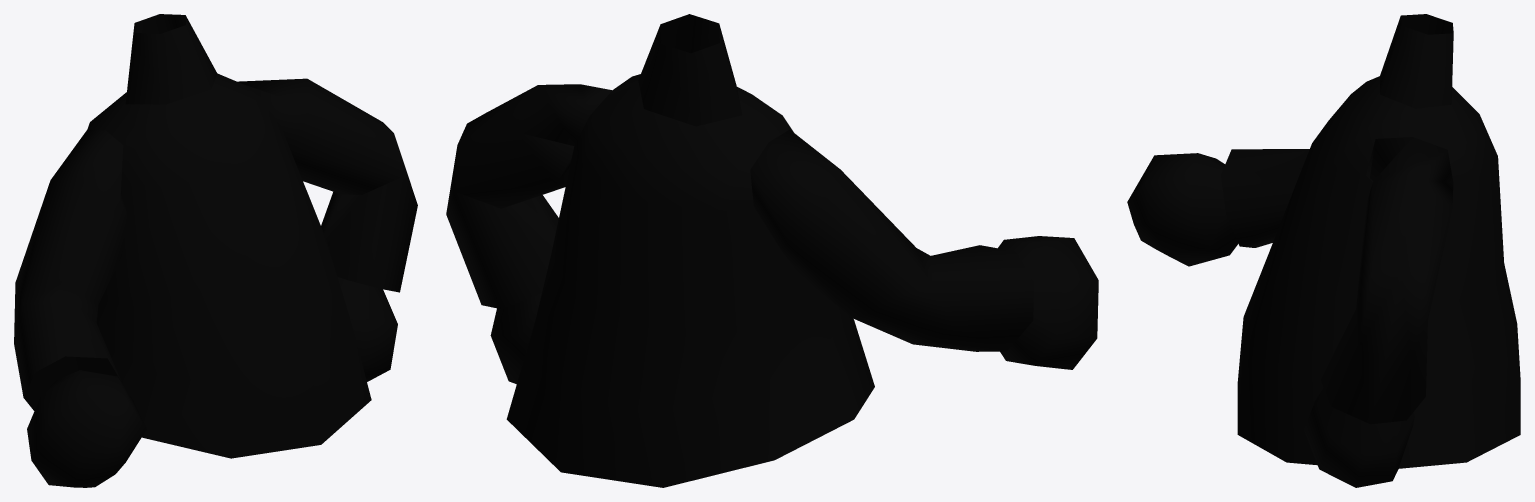
The model's file is tops_shtL.dae.
3 views of the same model, side by side, from view 1: azimuth 30°, elevation 25°; view 2: azimuth 150°, elevation 25°; view 3: azimuth 270°, elevation 25° (orthographic). The views are drawn at different scales.
Visible parts, largest first — view 1: tops_shtL; view 2: tops_shtL; view 3: tops_shtL.
Boxes of the visible parts, x1,y1,x2,y2 form: tops_shtL: (14,14,417,487); tops_shtL: (446,14,1098,487); tops_shtL: (1127,14,1520,487).
Bounding box in the file's own units: 21.92 × 16.96 × 15.52.
Materials: 1 (1 with a texture image).
